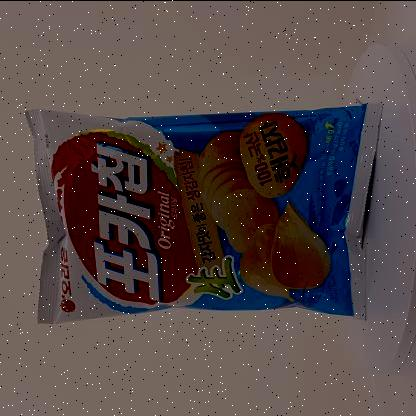Others: (17, 84, 387, 332)
